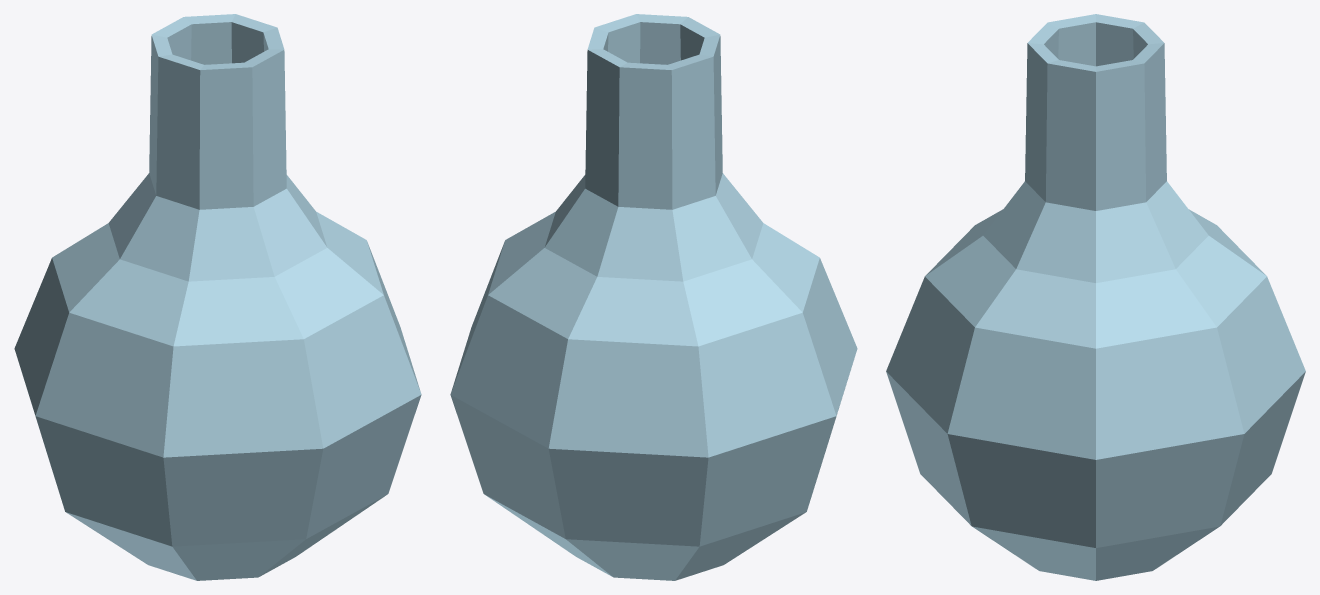
The model's file is SM_Flask_A.fbx.
3 renders of one model, left to right at view 1: azimuth 30°, elevation 25°; view 2: azimuth 150°, elevation 25°; view 3: azimuth 270°, elevation 25°, orthographic.
Parts seen in each view (by area): view 1: SM_Flask_A; view 2: SM_Flask_A; view 3: SM_Flask_A.
Boxes of the visible parts, left/top/right/bottom form: SM_Flask_A: left=14, top=14, right=421, bottom=580; SM_Flask_A: left=450, top=14, right=857, bottom=580; SM_Flask_A: left=886, top=14, right=1305, bottom=580.
Bounding box in the file's own units: 11.58 × 15.92 × 11.58.
